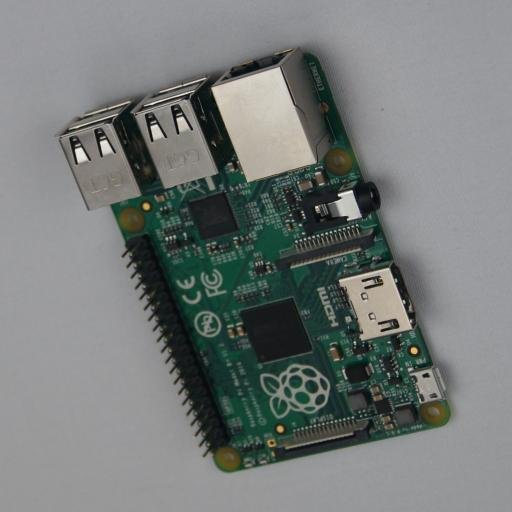Raspberry Pi 1 B-: (59, 46, 451, 472)
